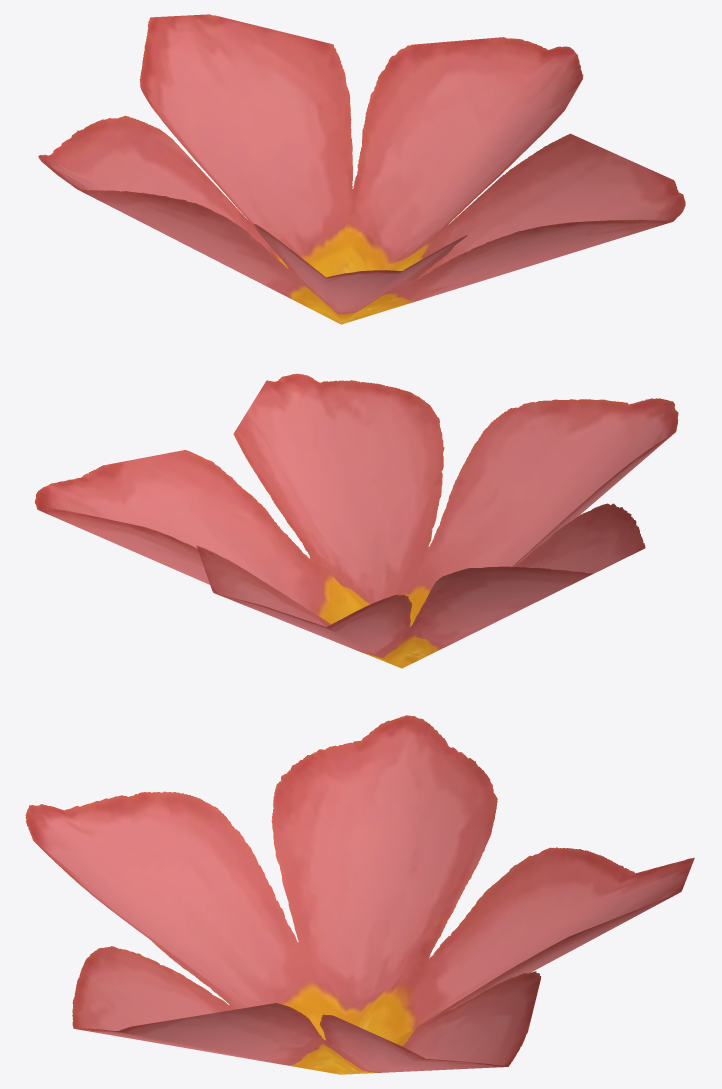
Rendered from Petal_5.gltf.
3 views of the same model, one above another, from view 1: azimuth 30°, elevation 25°; view 2: azimuth 150°, elevation 25°; view 3: azimuth 270°, elevation 25° (orthographic). The views are drawn at different scales.
Visible parts, largest first — view 1: Petal_5; view 2: Petal_5; view 3: Petal_5.
Part boxes in pixels (x1=…): Petal_5: x1=38, y1=14, x2=685, y2=324; Petal_5: x1=35, y1=373, x2=678, y2=668; Petal_5: x1=25, y1=715, x2=694, y2=1074.
Size of the model in its own units: 0.834 by 0.2888 by 0.7952.
1 material, 1 textured.
